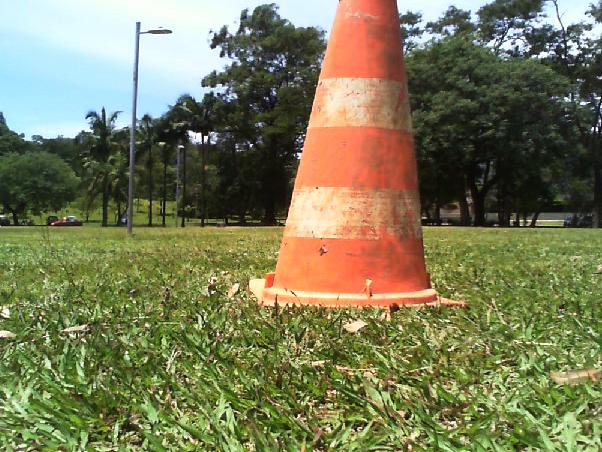0 cone: (248, 0, 468, 307)
